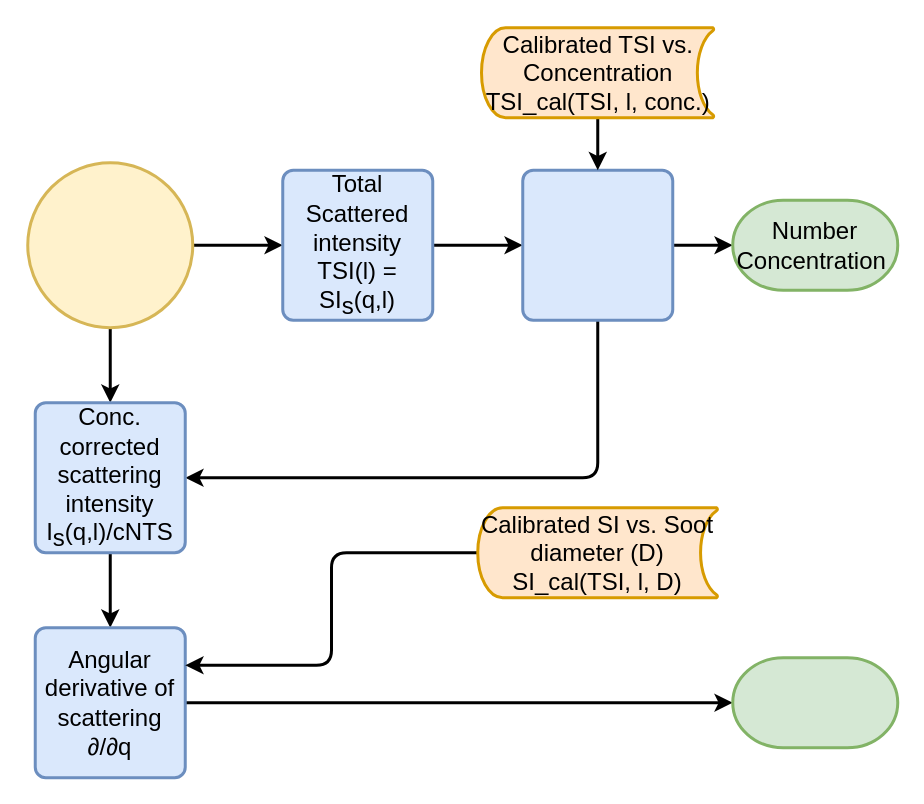
The diagram is 924 pixels wide and 804 high, and some of its shapes have lost their labels. Each missing label, with the centre of its shape:
"Average soot diameter" belongs at pixel 814 702.
"Conc. Normalization cNTS = S I s ( l , conc.)" belongs at pixel 597 244.
"Scattering intensity I s ( q , l , conc., D)" belongs at pixel 110 244.
